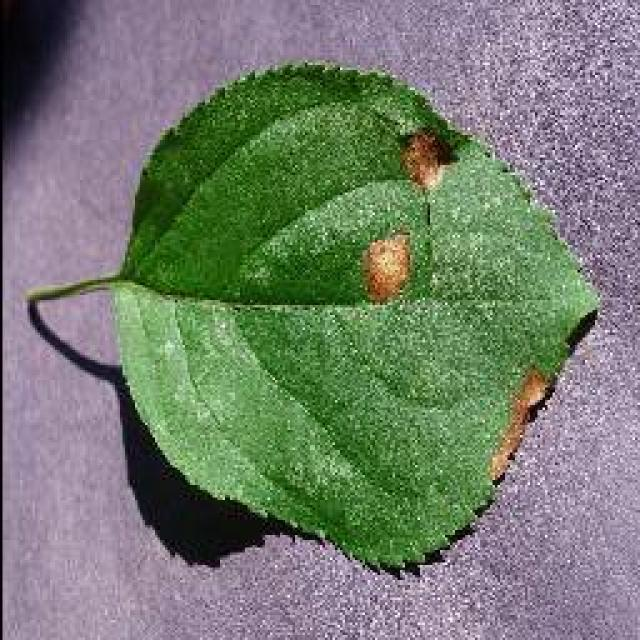Black_rot: (25, 55, 600, 577)
